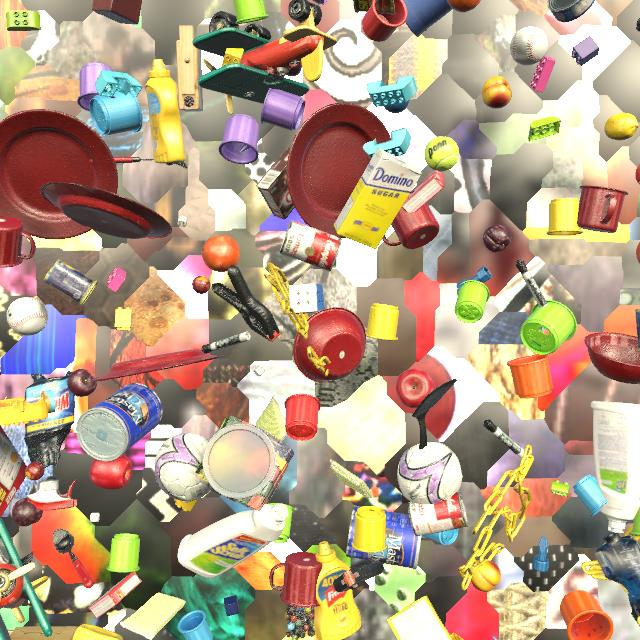ycb_002_master_chef_can: (76, 383, 163, 461), (346, 505, 421, 570)
ycb_003_cracker_box: (0, 426, 27, 518)
ycb_004_sugar_box: (334, 148, 422, 249), (387, 596, 453, 640)
ycb_005_tomato_soup_can: (279, 220, 342, 272), (408, 491, 468, 536), (0, 539, 9, 564)
ycb_006_mustard_bottle: (314, 541, 361, 640), (145, 59, 186, 164), (72, 624, 123, 640)
ycb_007_tuna_fish_can: (547, 0, 595, 22)
ycb_008_pudding_box: (256, 147, 295, 220)
ycb_009_gelatin_box: (88, 571, 142, 619), (401, 170, 445, 213)
ycb_010_potted_meat_can: (43, 259, 98, 306), (353, 0, 395, 14), (635, 309, 640, 351)
ycb_013_apple: (90, 454, 133, 490), (396, 369, 435, 408)
ycb_014_lemon: (604, 113, 639, 140)
ycb_015_peach: (482, 76, 512, 109), (471, 560, 501, 592)
ycb_017_orange: (202, 235, 240, 272), (447, 0, 481, 13), (636, 242, 640, 263)
ycb_018_plum: (12, 497, 43, 527), (67, 369, 97, 397), (483, 224, 511, 252), (287, 63, 302, 76)
